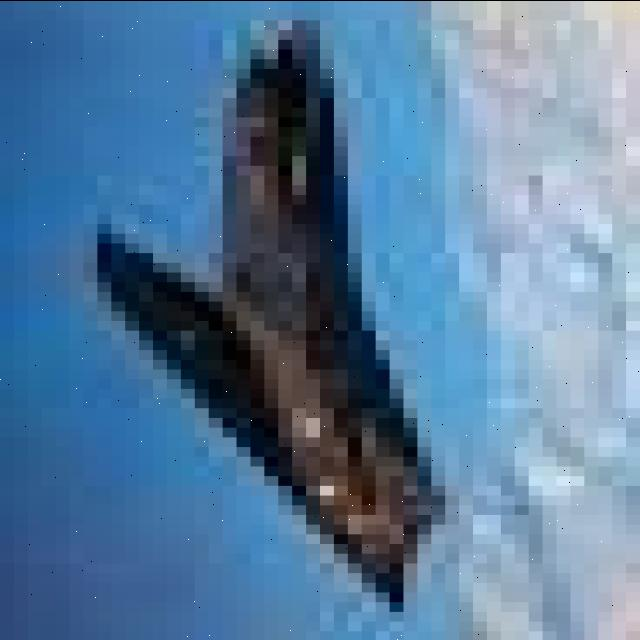F117: (45, 0, 502, 627)
